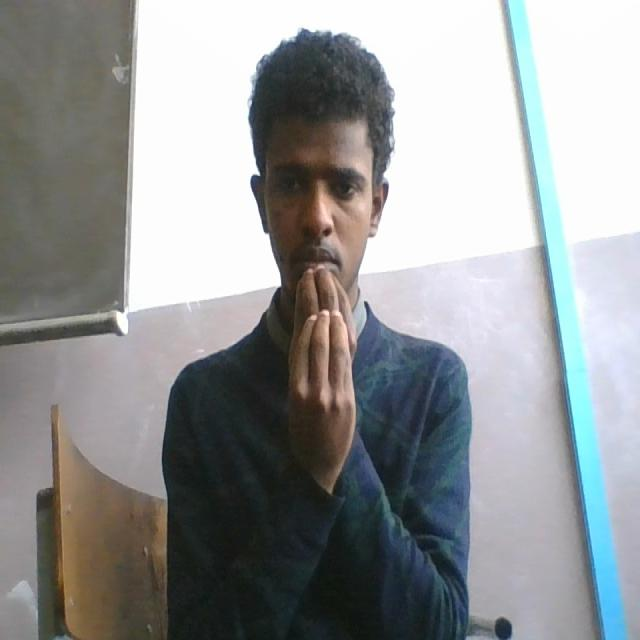migb: (279, 253, 360, 490)
